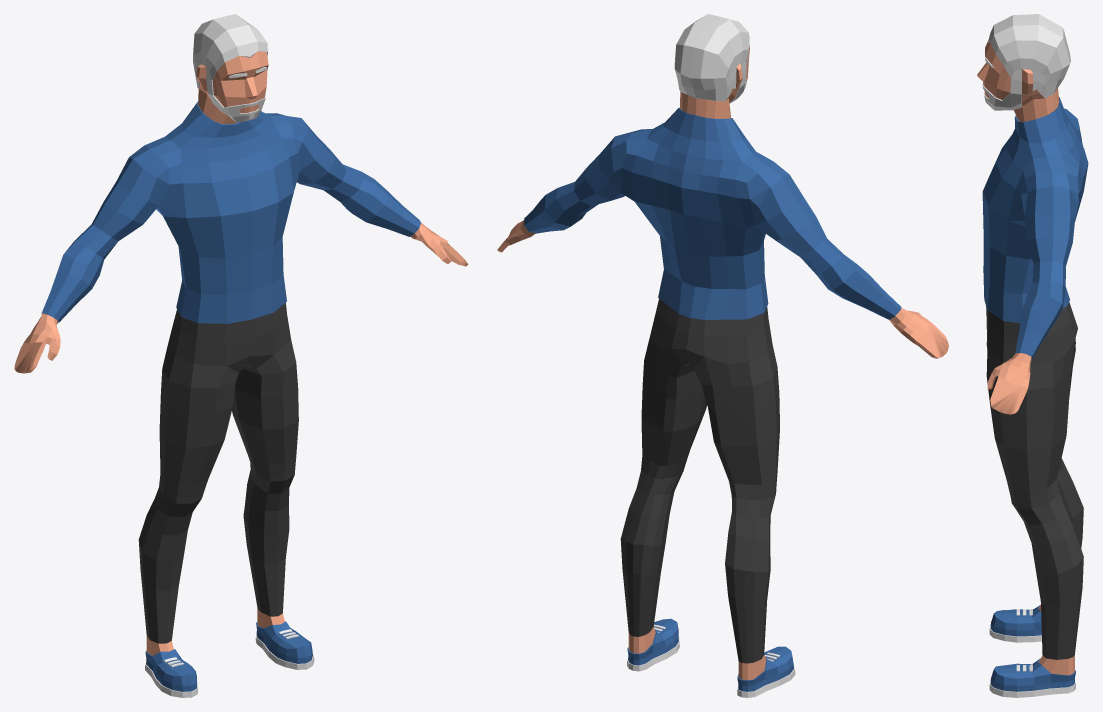
Rendered from Boss.fbx.
3 renders of one model, left to right at view 1: azimuth 30°, elevation 25°; view 2: azimuth 150°, elevation 25°; view 3: azimuth 270°, elevation 25°, orthographic.
Parts seen in each view (by area): view 1: character4; view 2: character4; view 3: character4.
Part boxes in pixels (left/top/right/bottom): character4: left=14, top=14, right=468, bottom=697; character4: left=497, top=14, right=948, bottom=697; character4: left=977, top=14, right=1088, bottom=697.
Bounding box in the file's own units: 133 × 185 × 28.93.
